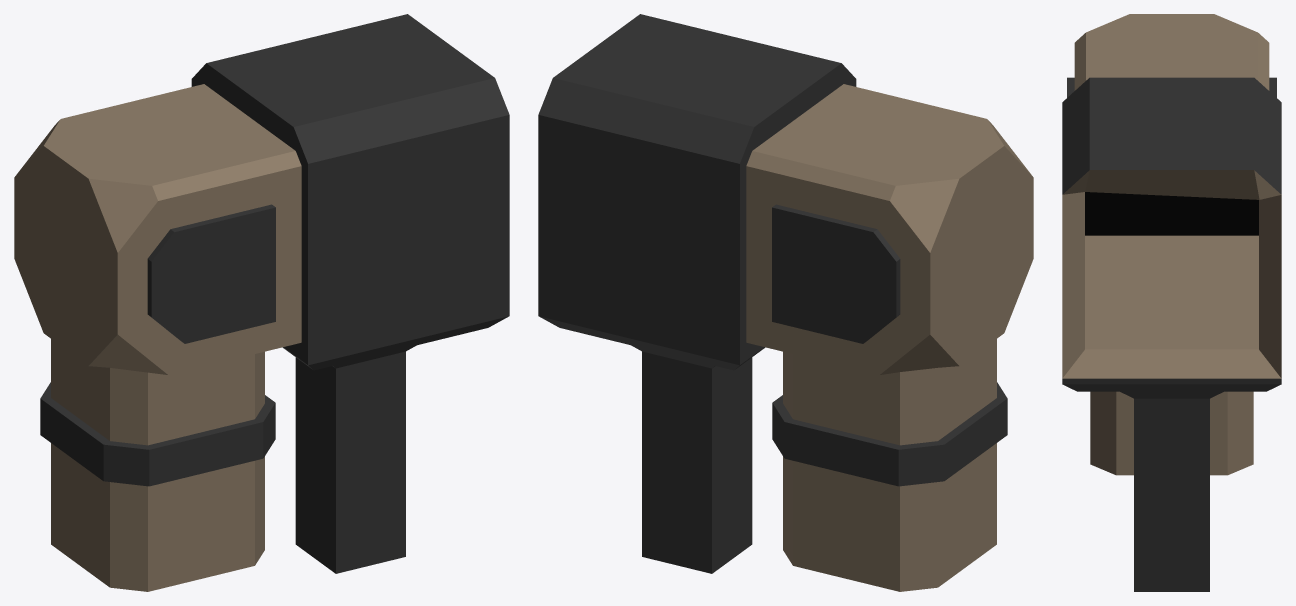
Rendered from chube.fbx.
The picture shows the model from 3 angles, left to right: view 1: azimuth 30°, elevation 25°; view 2: azimuth 150°, elevation 25°; view 3: azimuth 270°, elevation 25°; orthographic projection. The views are drawn at different scales.
Visible parts, largest first — view 1: Cube; view 2: Cube; view 3: Cube.
Part boxes in pixels (x1,y1,x2,y2): Cube: [14, 14, 509, 591]; Cube: [538, 14, 1033, 591]; Cube: [1062, 14, 1281, 591].
Size of the model in its own units: 383 by 455 by 200.
